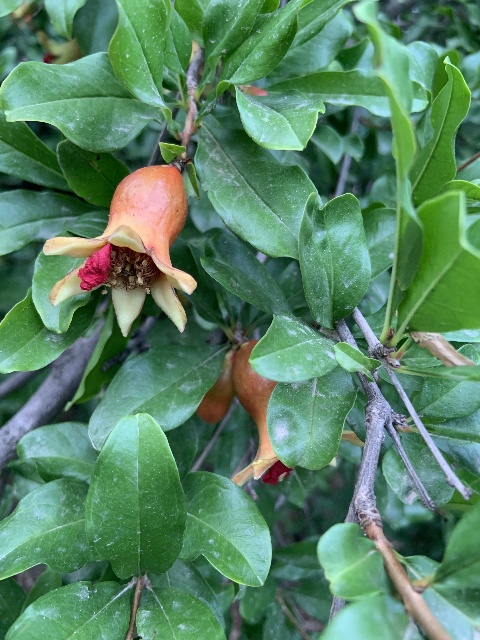bud: (196, 351, 233, 425)
early-fruit: (43, 163, 196, 337), (232, 340, 294, 484)
